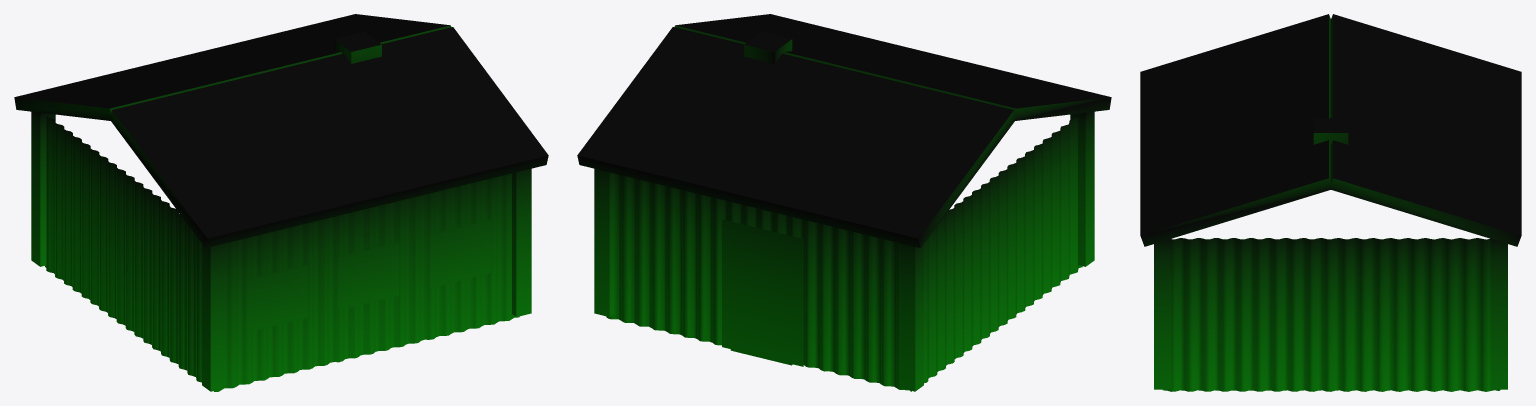
Rendered from shack.glb.
The picture shows the model from 3 angles, left to right: view 1: azimuth 30°, elevation 25°; view 2: azimuth 150°, elevation 25°; view 3: azimuth 270°, elevation 25°; orthographic projection.
Parts seen in each view (by area): view 1: lod0; view 2: lod0; view 3: lod0.
Boxes of the visible parts, x1=… form: lod0: x1=14, y1=14, x2=548, y2=391; lod0: x1=577, y1=14, x2=1111, y2=391; lod0: x1=1140, y1=14, x2=1521, y2=391.
Size of what is drawn, in the model's own units: 6.7 by 4.35 by 6.57.
